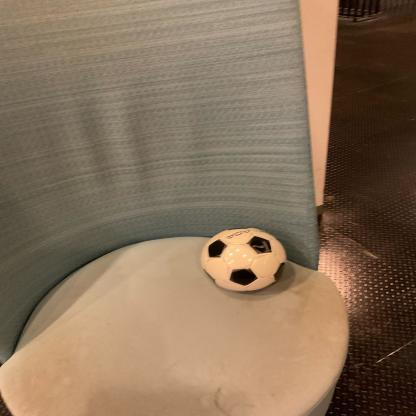ball: (201, 228, 287, 292)
